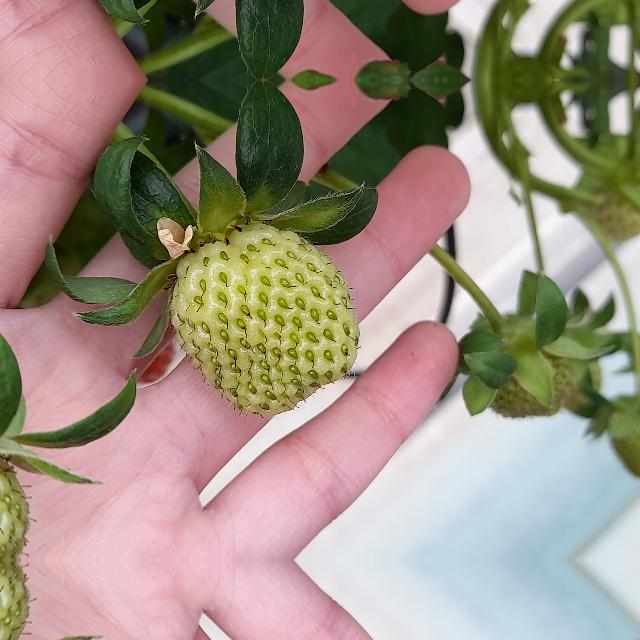Health_25: (170, 220, 360, 418)
